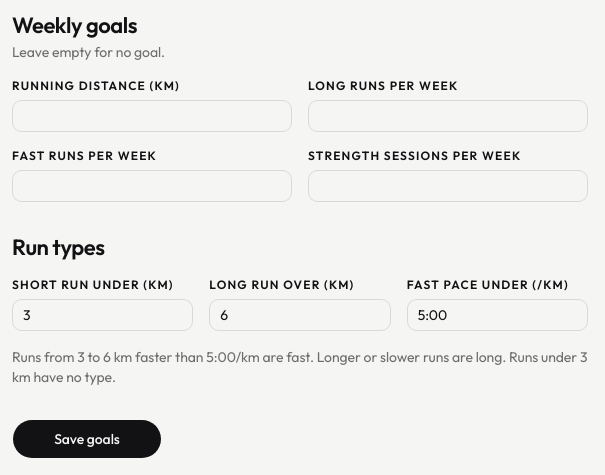
Test: GoalsForm › shows a field error and does not save an invalid pace
Replace the text in the field with test id "goals-fast-pace" with "abc" at [497, 315], box [407,299,588,331]
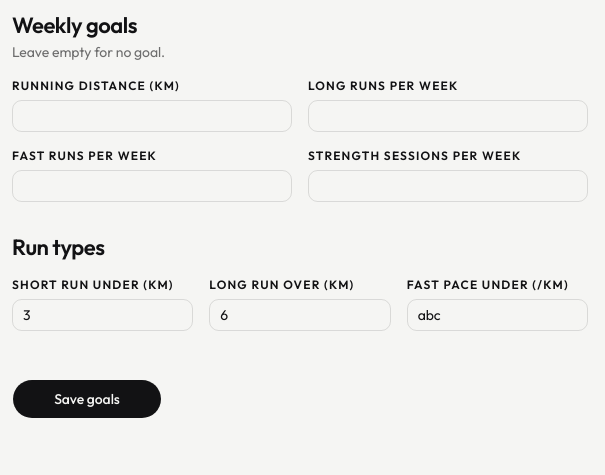
Click the button with test id "goals-save".
click(87, 399)  # box [12,379,162,419]
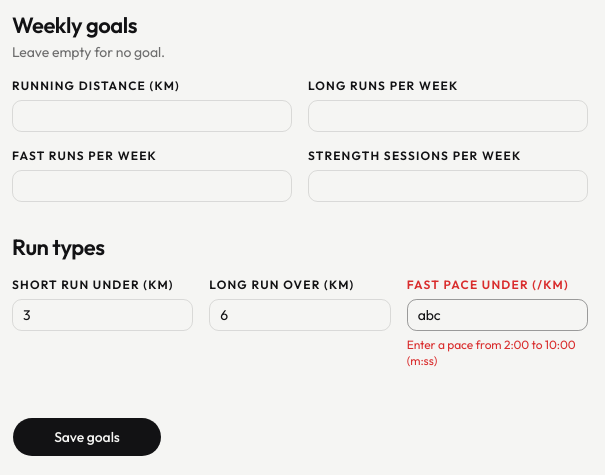
Expected: the text "Enter a pace from 2:00 to 10:00 (m:ss)" is shown, [407,337,588,369]
